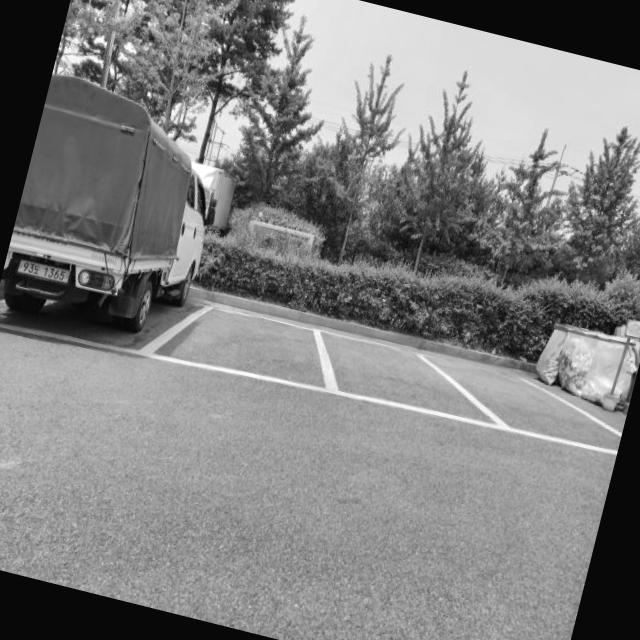car: (0, 74, 232, 333)
free: (416, 342, 621, 450), (307, 321, 503, 426), (147, 292, 329, 395)
